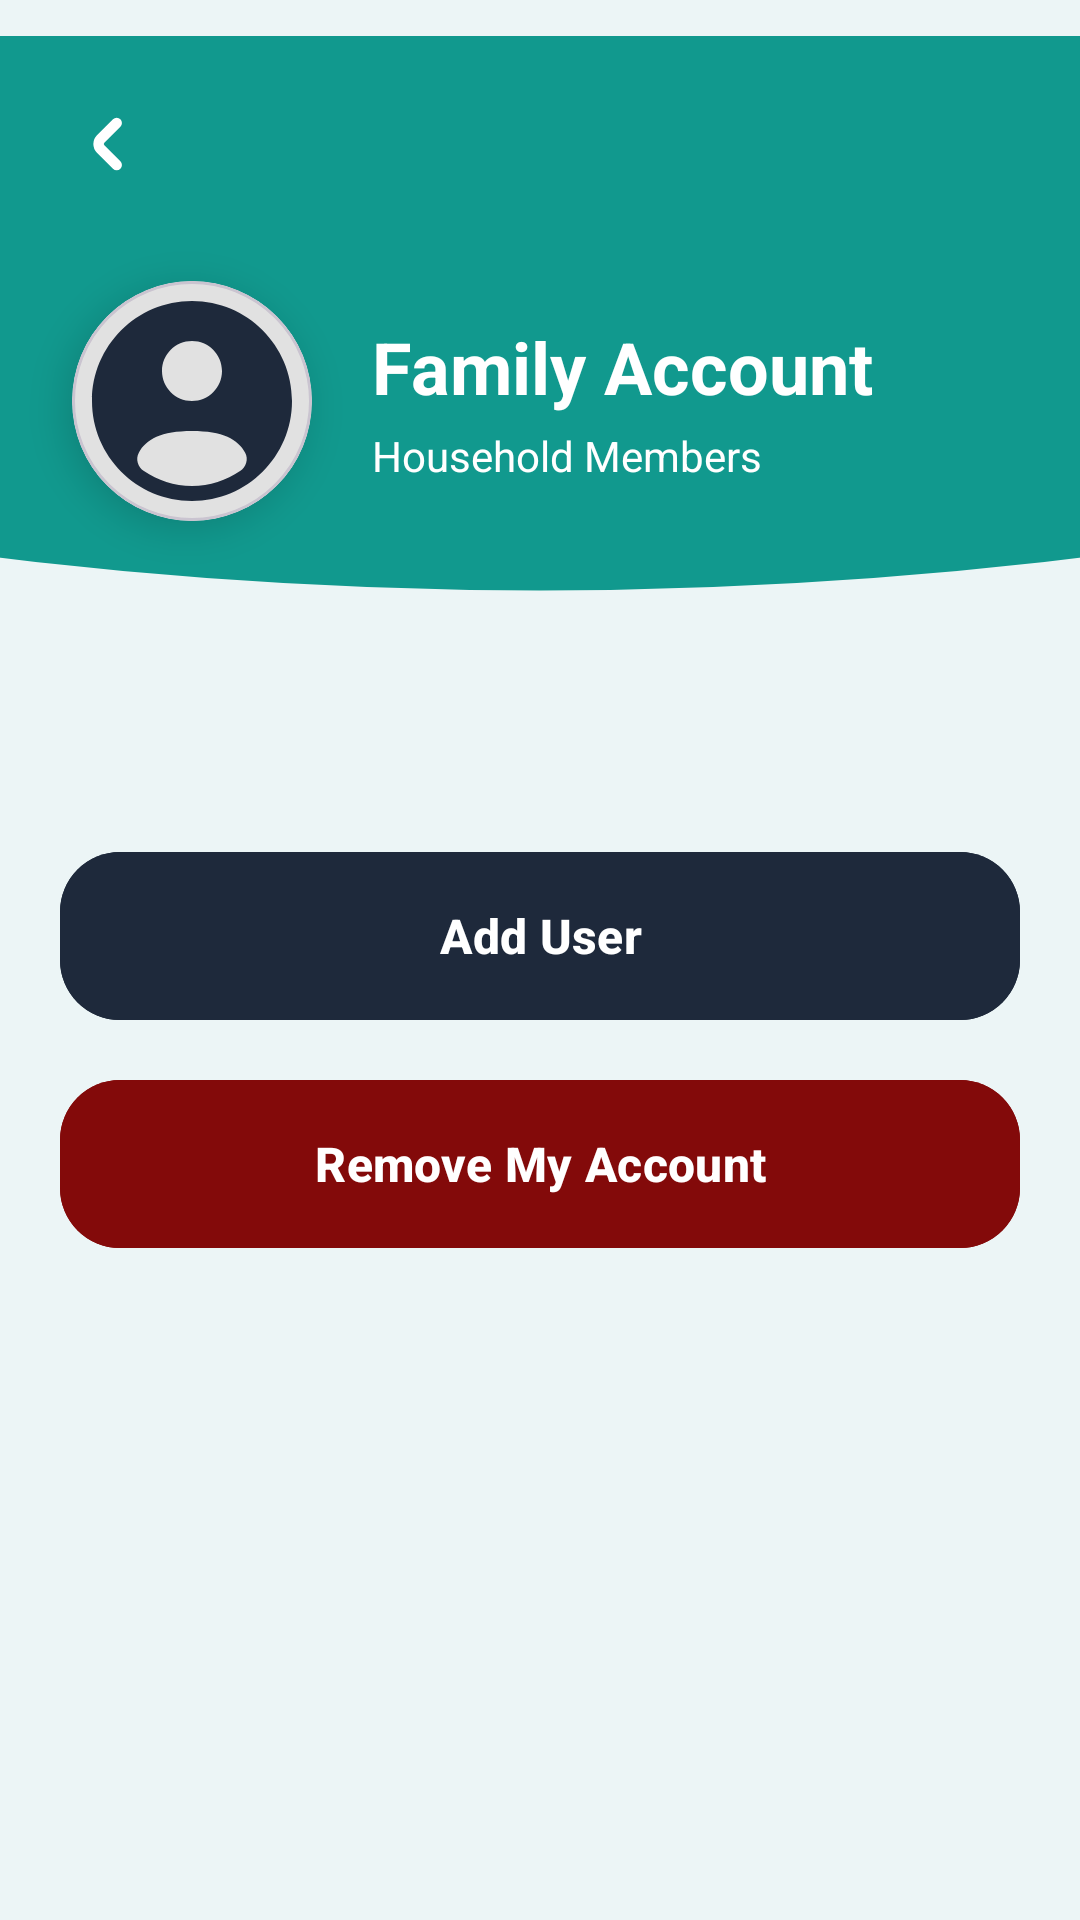

Icon bounding boxes for this 1080 × 1920 phone screenshot, format {"x1": x1, "y1": y1, "x2": x2, "y2": y2}:
back: {"x1": 93, "y1": 117, "x2": 122, "y2": 171}
user: {"x1": 72, "y1": 281, "x2": 312, "y2": 521}
